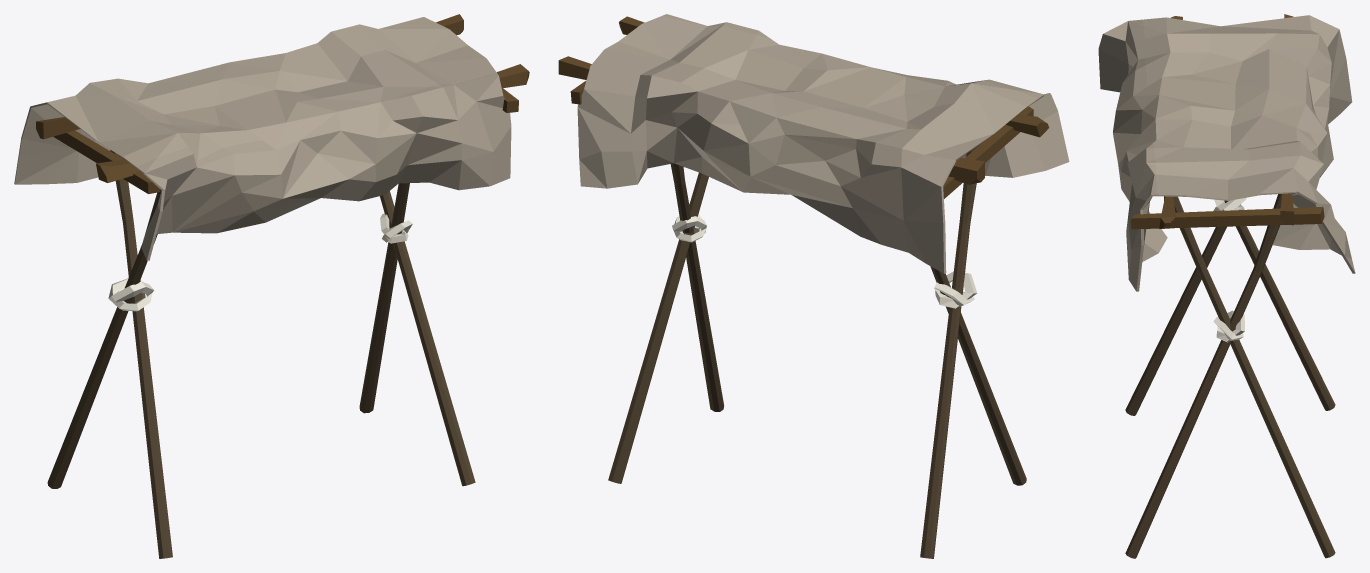
The model's file is EA_Prop_Stand_Sheet_01a.glb.
3 renders of one model, left to right at view 1: azimuth 30°, elevation 25°; view 2: azimuth 150°, elevation 25°; view 3: azimuth 270°, elevation 25°, orthographic. The views are drawn at different scales.
Visible parts, largest first — view 1: EA_Prop_Stand_Sheet_01a; view 2: EA_Prop_Stand_Sheet_01a; view 3: EA_Prop_Stand_Sheet_01a.
Part boxes in pixels (box(x1,y1,x2,y2)): EA_Prop_Stand_Sheet_01a: box(14, 14, 529, 558); EA_Prop_Stand_Sheet_01a: box(558, 14, 1069, 558); EA_Prop_Stand_Sheet_01a: box(1098, 14, 1355, 558).
Size of the model in its own units: 3.64 by 3.33 by 1.96.
Materials: 1 (1 with a texture image).
